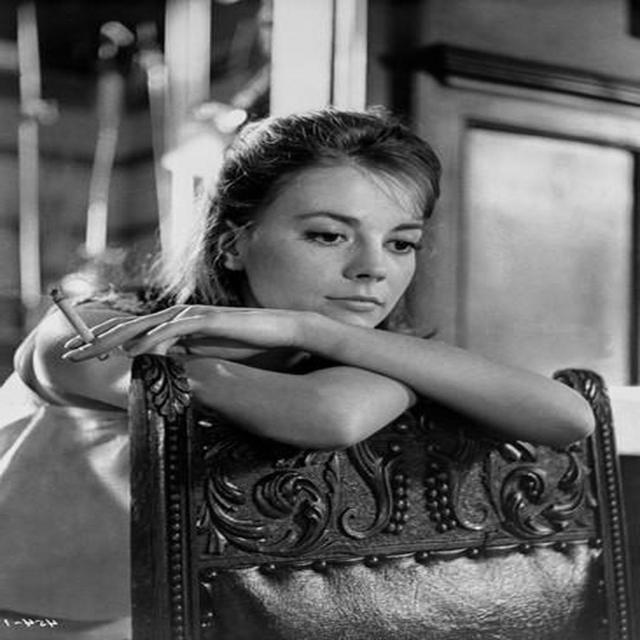smoking: (1, 105, 461, 369)
